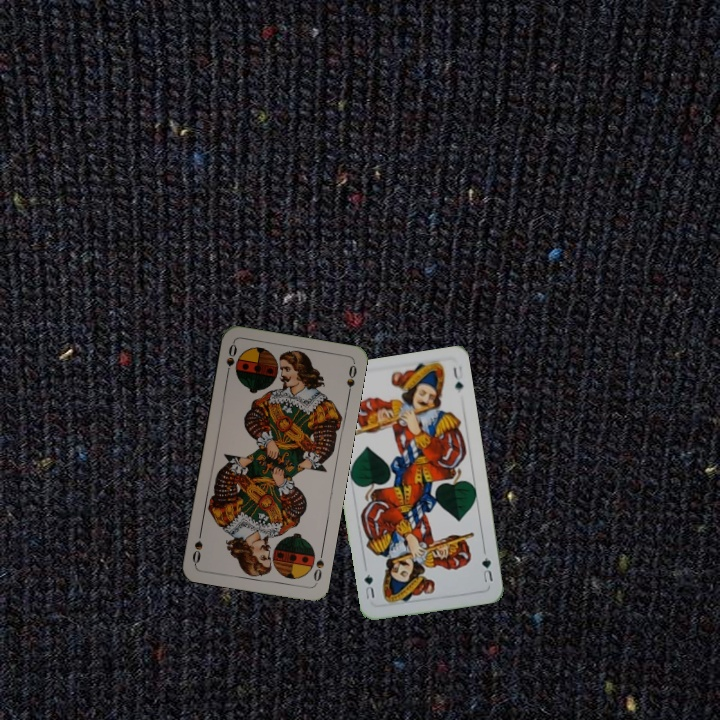GU: (477, 553, 495, 585)
SO: (222, 340, 240, 380), (309, 546, 326, 586)
